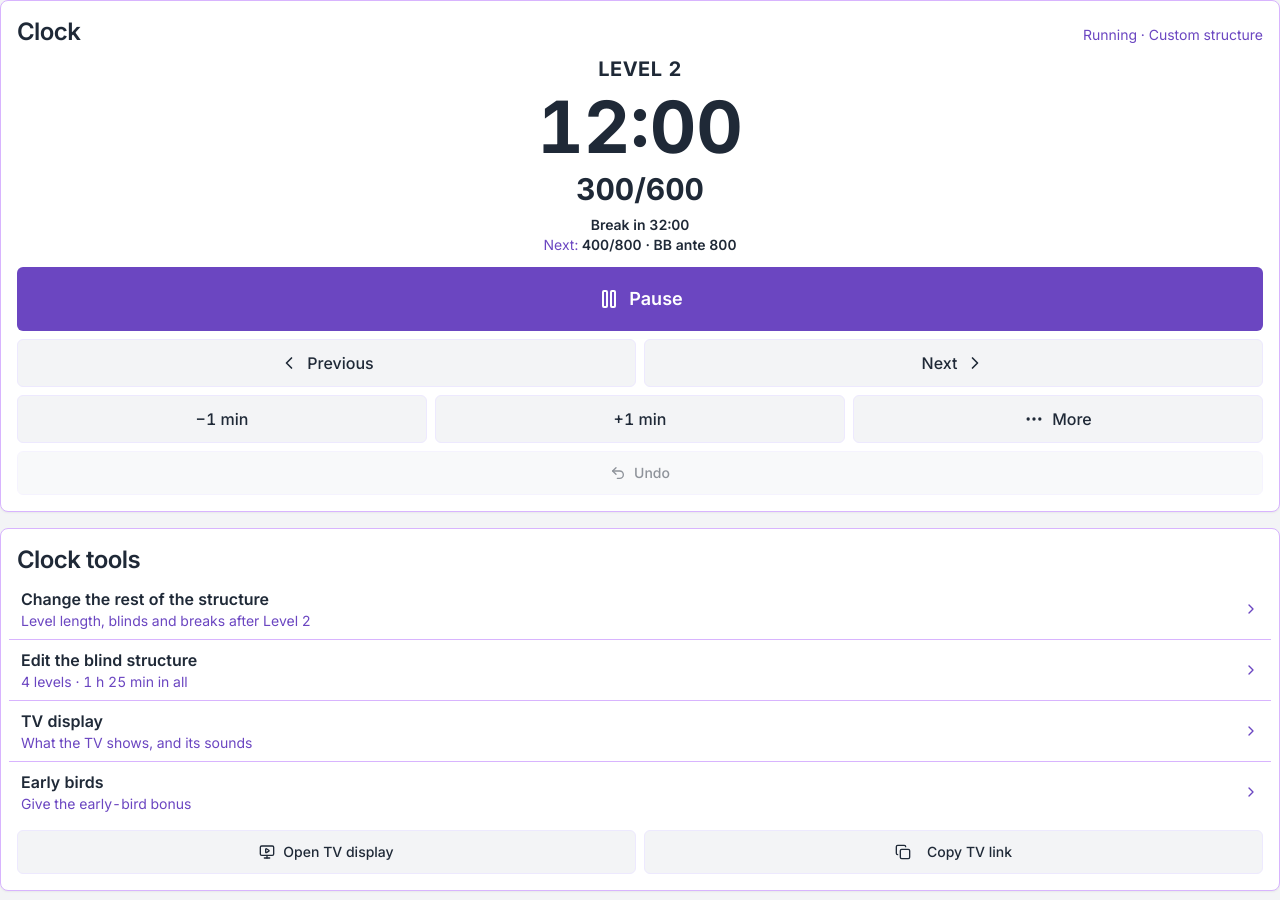
Test: the Clock tab on a phone, 390 px wide (round 5, items 10 and 17) › keeps the rarer actions in More: set the time, go to a level, reset and remove, each asked first
This screenshot has width=1280, height=900.
Click the button named "More clock actions": x=1058, y=419 [853,395,1263,443]
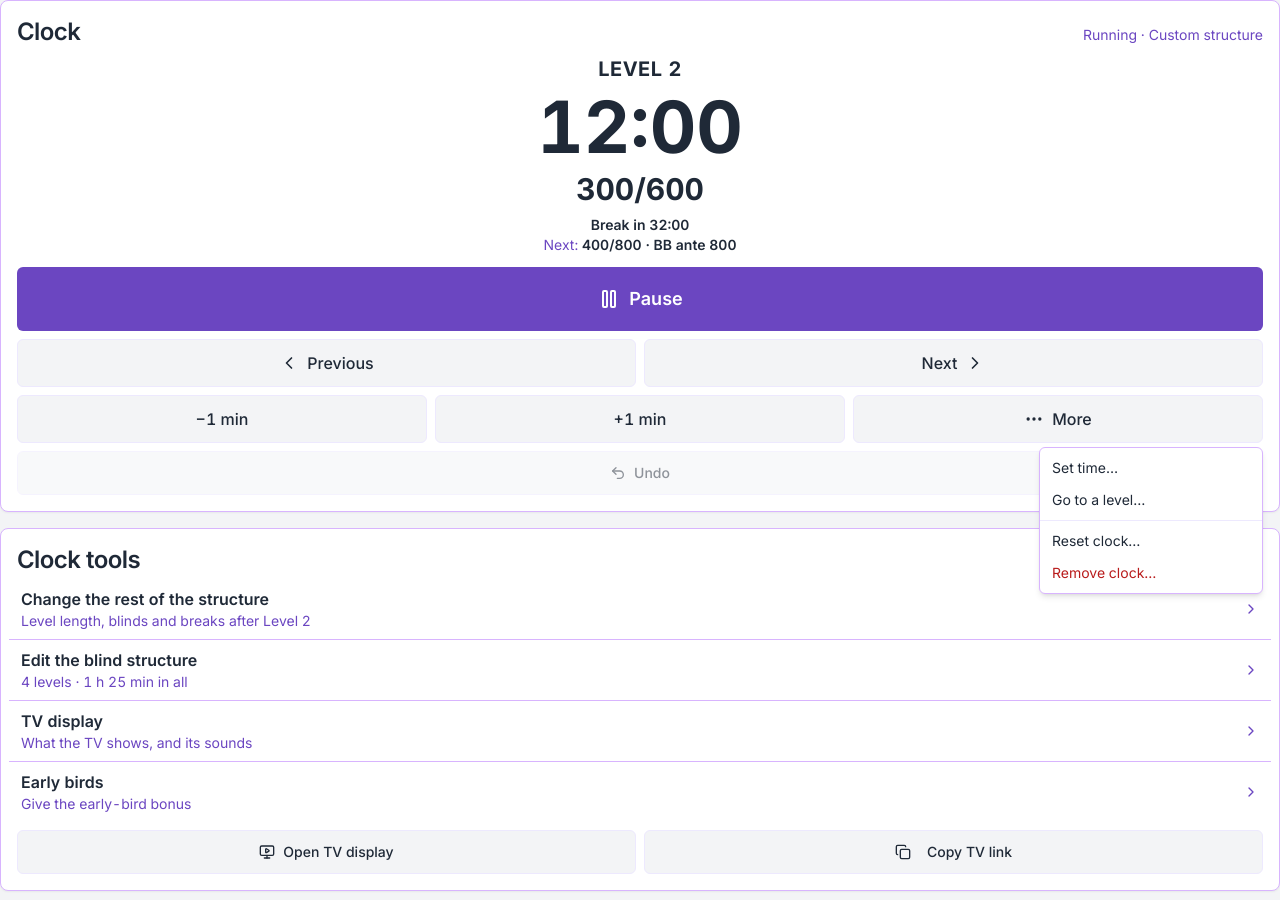
expect the menu items read "Set time…", "Go to a level…", "Reset clock…", "Remove clock…", in this order: met
Click the menu item "Go to a level…": x=1099, y=500 [1052,491,1145,508]
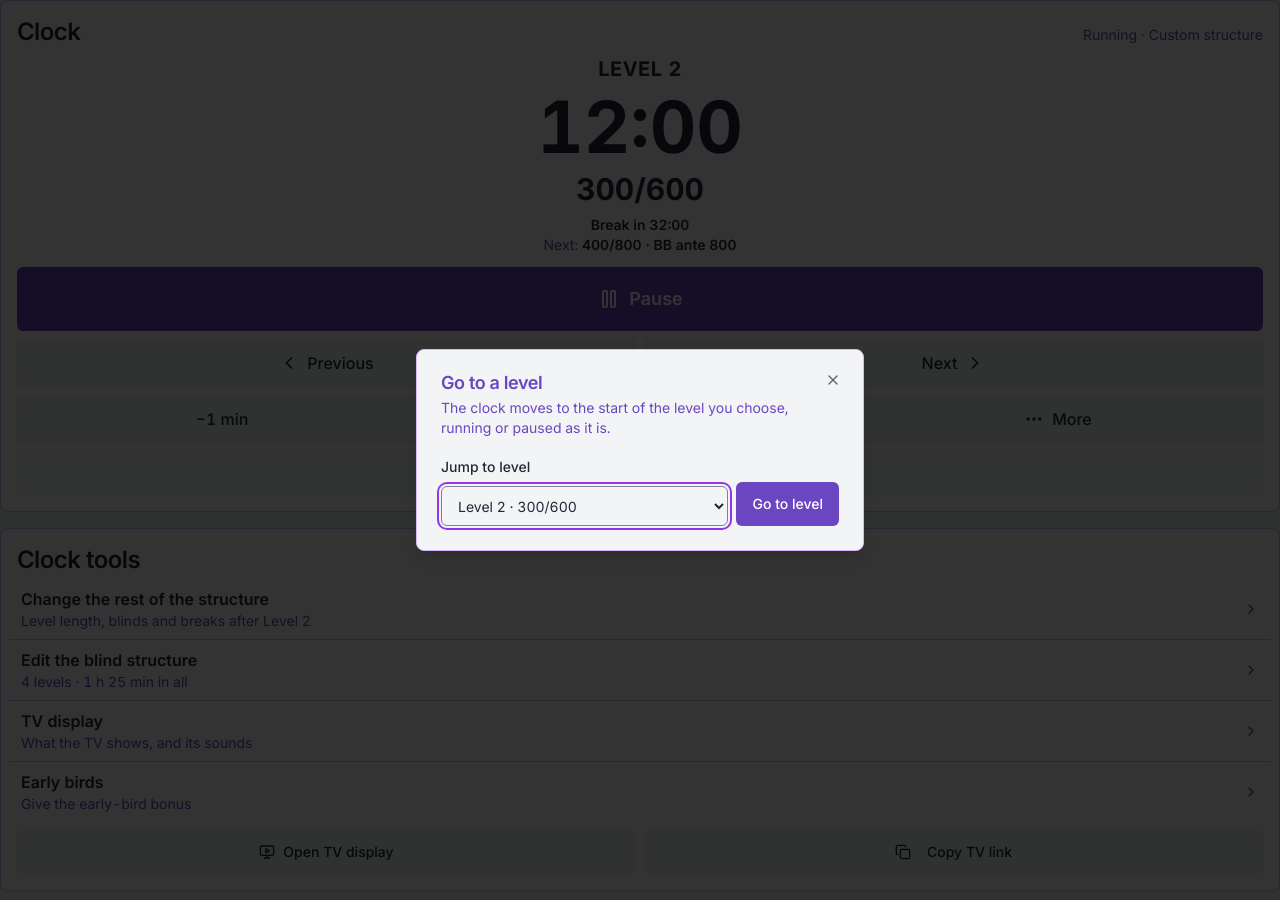
Select "Break · Colour up" in the dropdown labelled "Jump to level": x=585, y=506 [441,486,728,526]
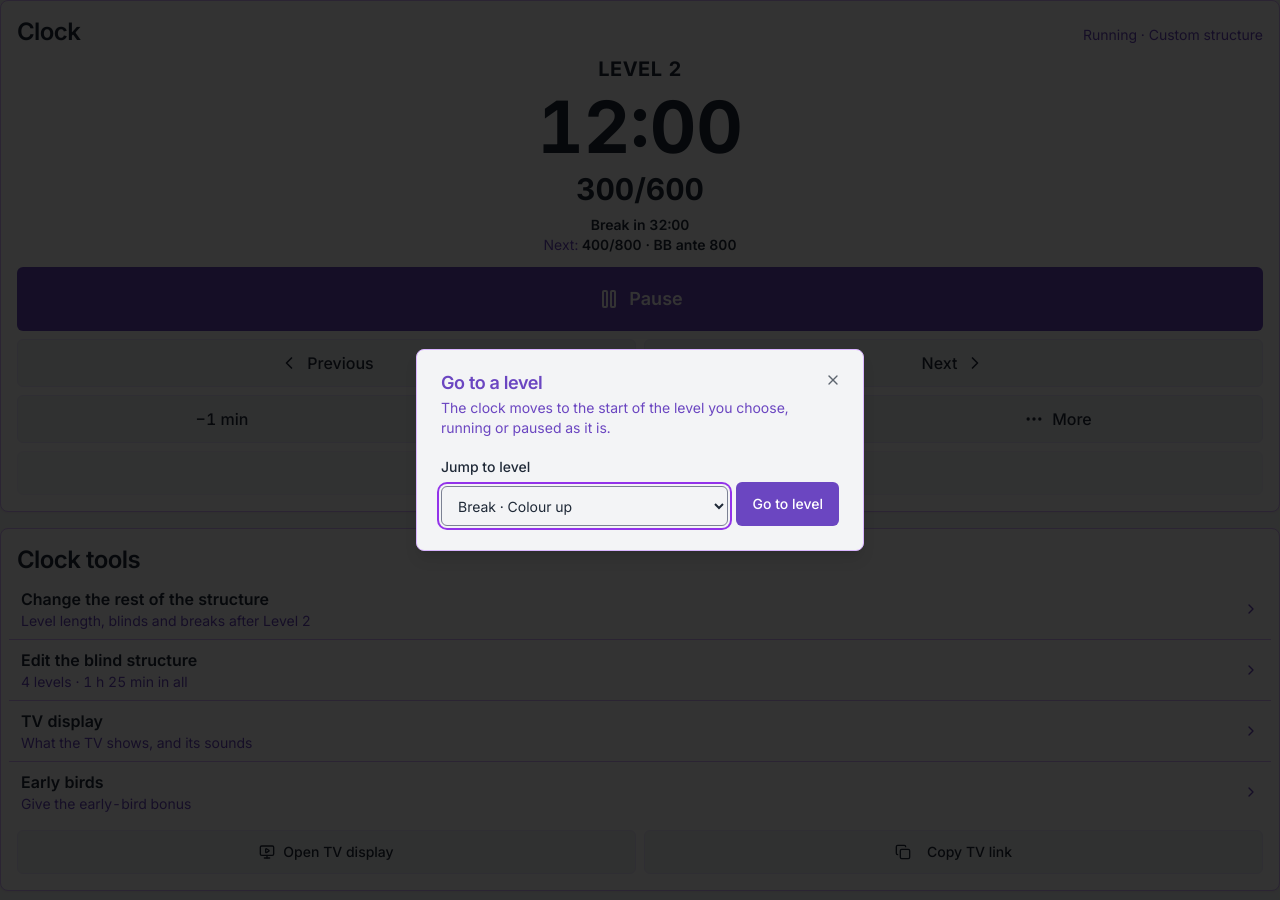
Click the button "Go to level": x=788, y=504 [736,482,839,526]
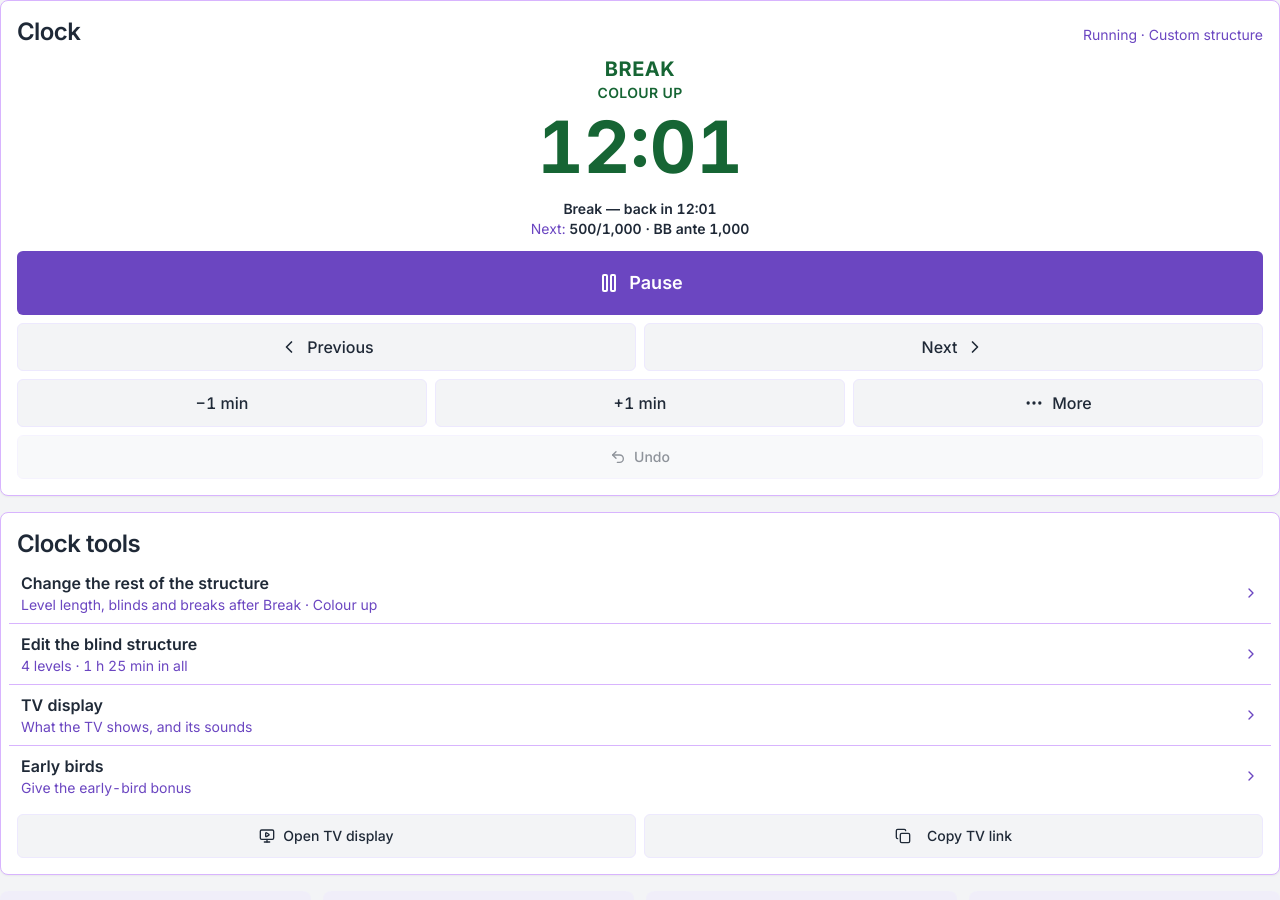
expect the heading "Go to a level" is gone: met
Click the button named "More clock actions": x=1058, y=403 [853,379,1263,427]
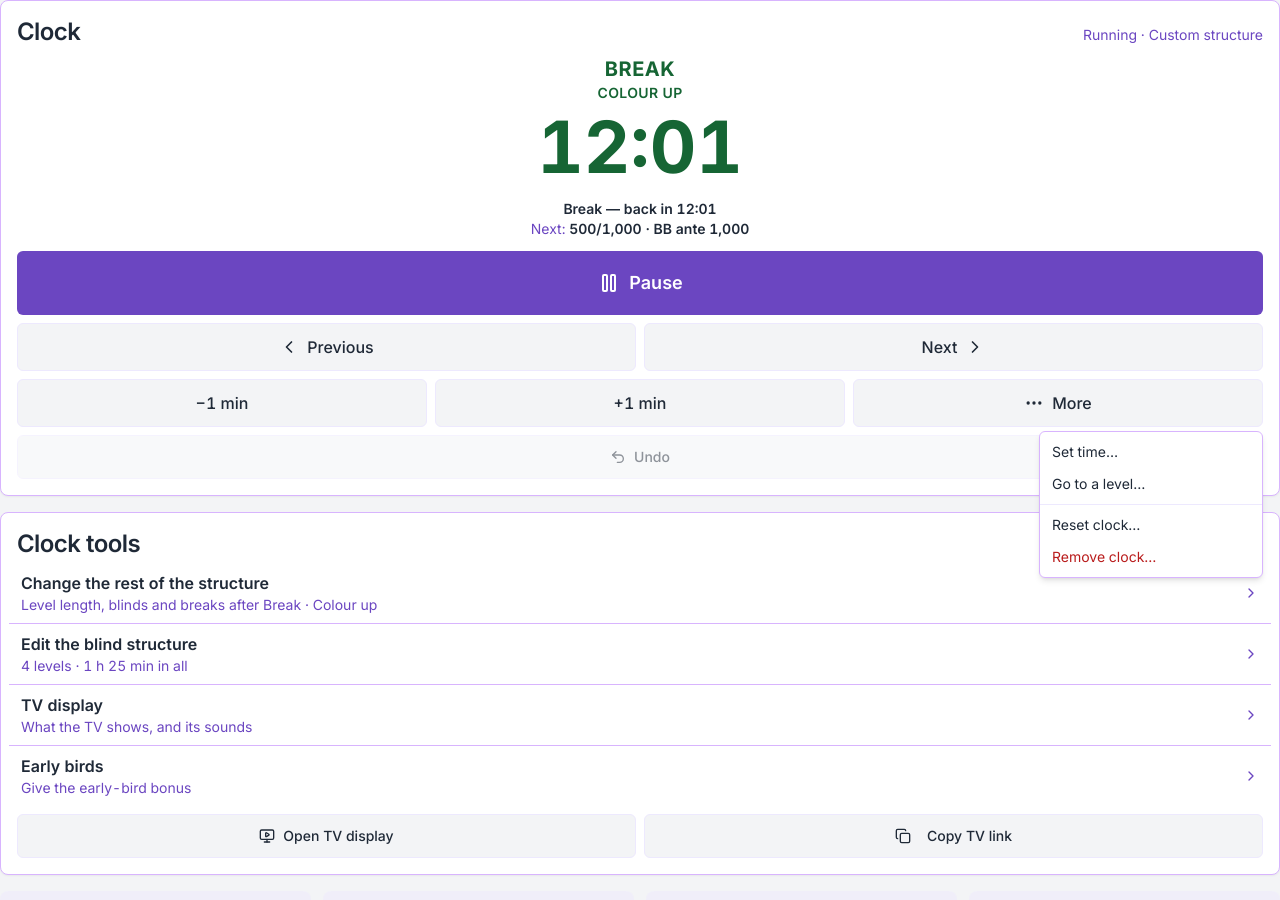
Click the menu item "Reset clock…": x=1096, y=524 [1052,516,1140,533]
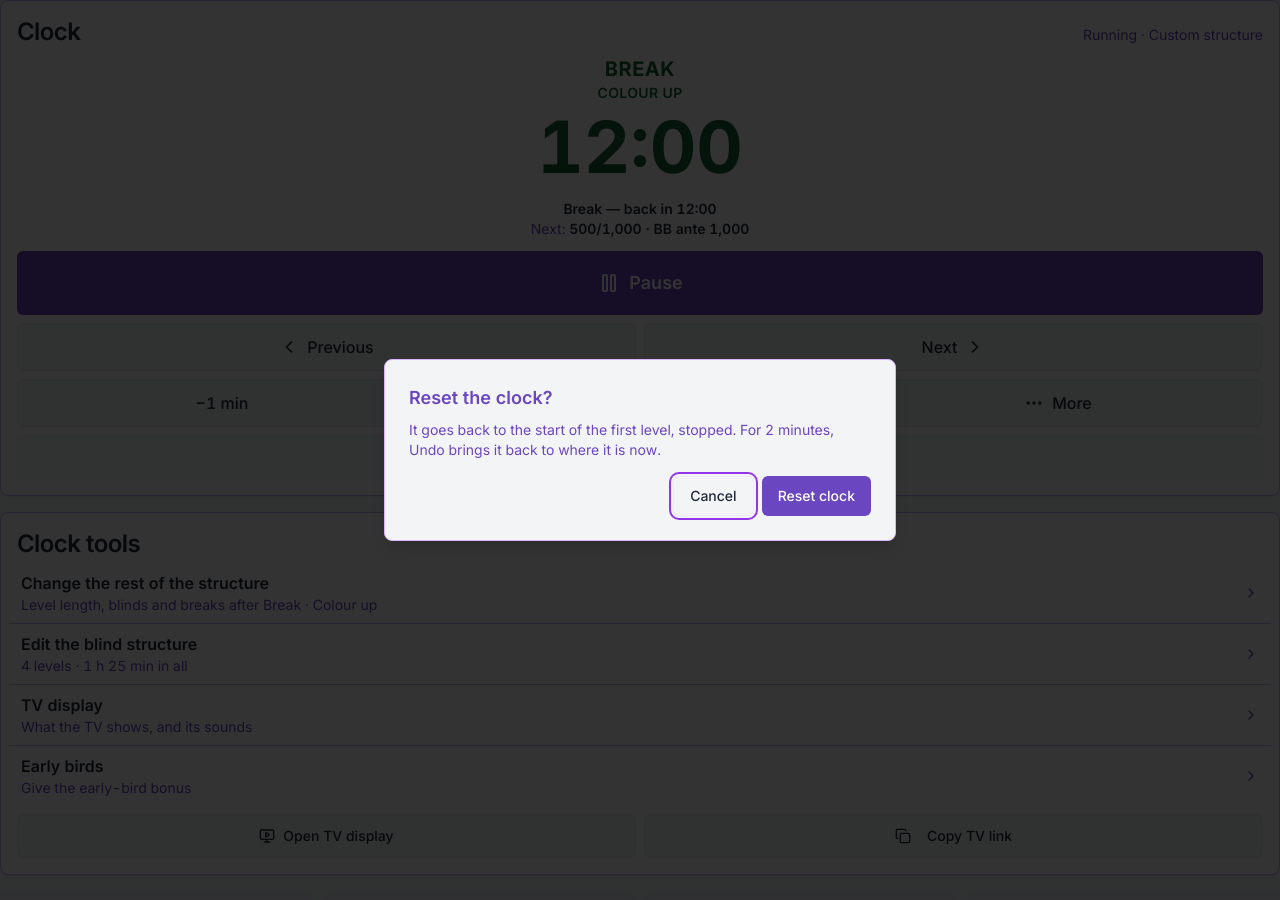
expect the dialog "Reset the clock?" is shown: met, box [384,359,896,541]
